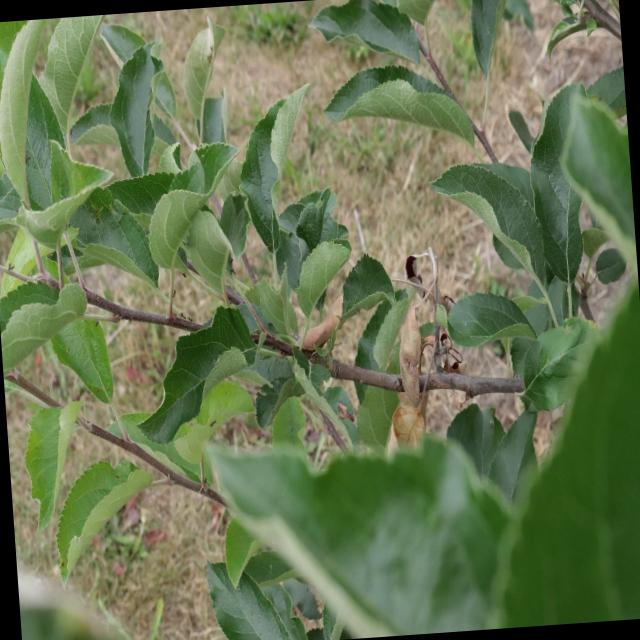-FireBlight-: (386, 358, 439, 452)
